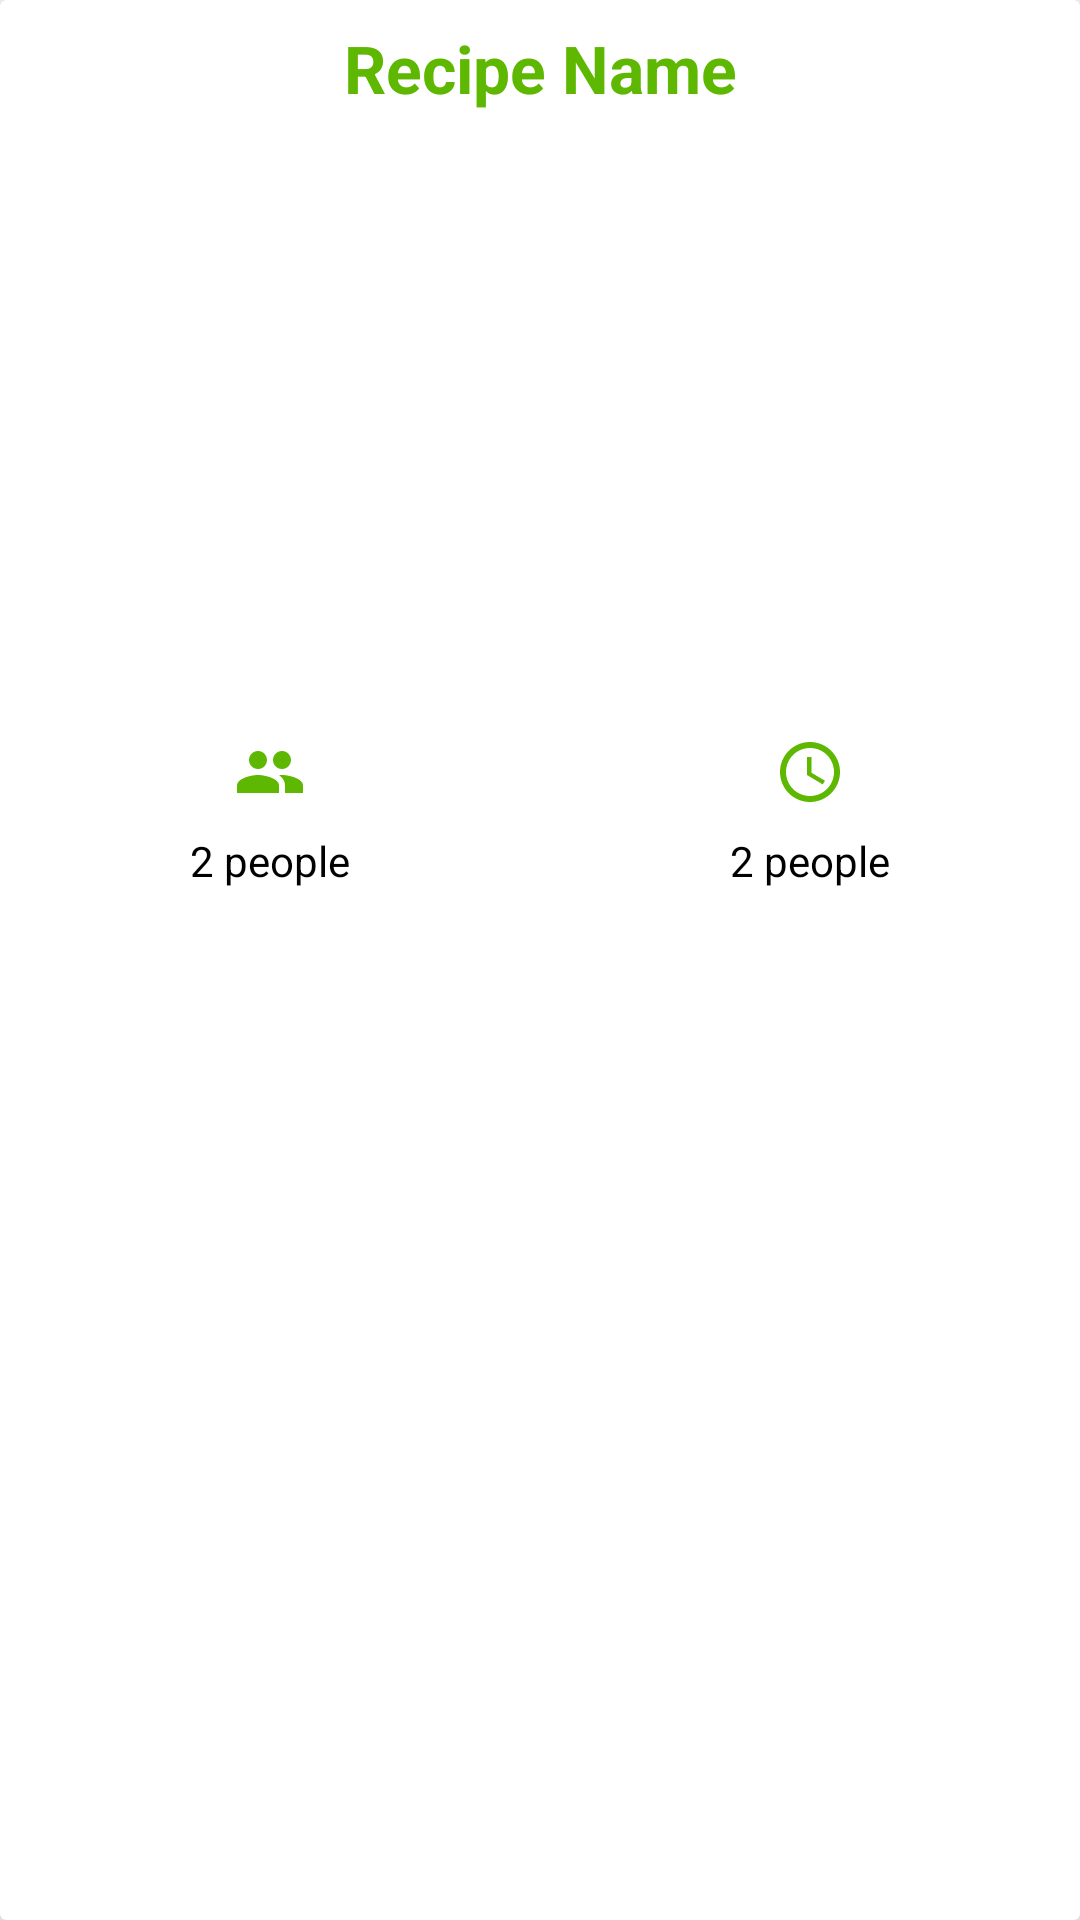

Icon click points for this 1080*1920 phone screenshot, format point (x, y):
servings: point (270, 772)
time: point (810, 772)
